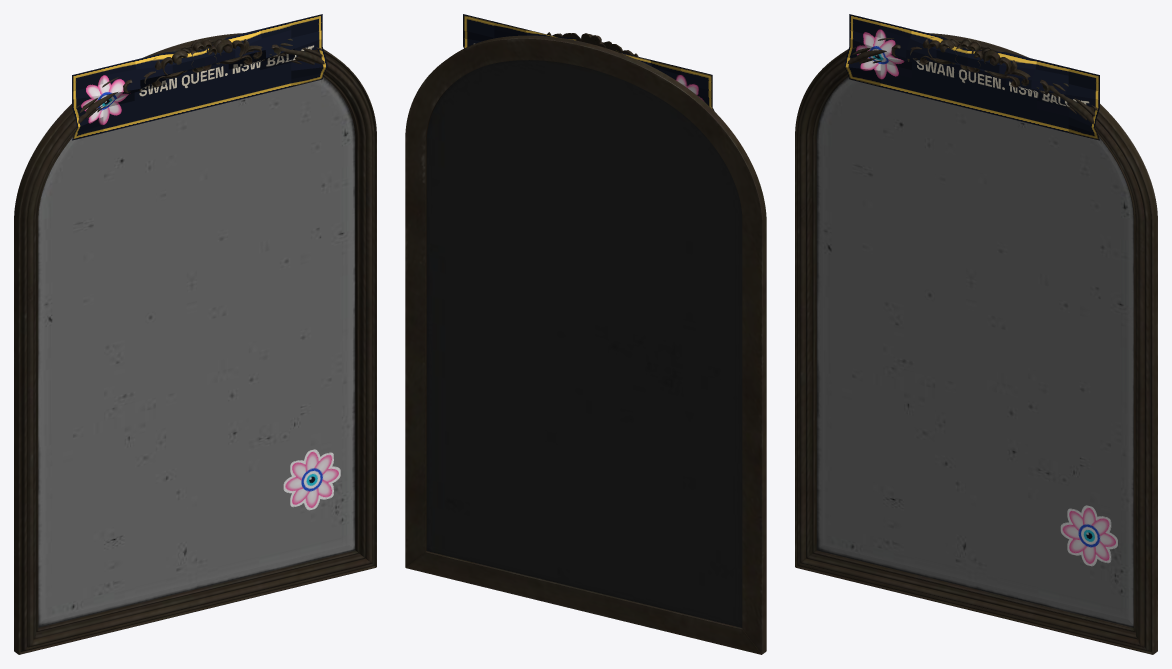
File: nyb_blackswan_mirror.glb
3 views of the same model, side by side, from view 1: azimuth 30°, elevation 25°; view 2: azimuth 150°, elevation 25°; view 3: azimuth 330°, elevation 25° (orthographic).
Parts seen in each view (by area): view 1: ornate_mirror_01, stk_lbl_cb9da41823.png, stk_eyeflower_die.png; view 2: ornate_mirror_01, stk_lbl_cb9da41823.png; view 3: ornate_mirror_01, stk_lbl_cb9da41823.png, stk_eyeflower_die.png.
Boxes of the visible parts, x1,y1,x2,y2 form: ornate_mirror_01: [14, 33, 376, 654]; stk_lbl_cb9da41823.png: [72, 14, 327, 140]; stk_eyeflower_die.png: [283, 449, 340, 510]; ornate_mirror_01: [405, 32, 766, 654]; stk_lbl_cb9da41823.png: [463, 14, 714, 110]; ornate_mirror_01: [795, 33, 1157, 654]; stk_lbl_cb9da41823.png: [844, 14, 1099, 140]; stk_eyeflower_die.png: [1060, 505, 1117, 566].
Bounding box in the file's own units: 0.4865 × 0.7442 × 0.026.
3 materials, 3 textured.
